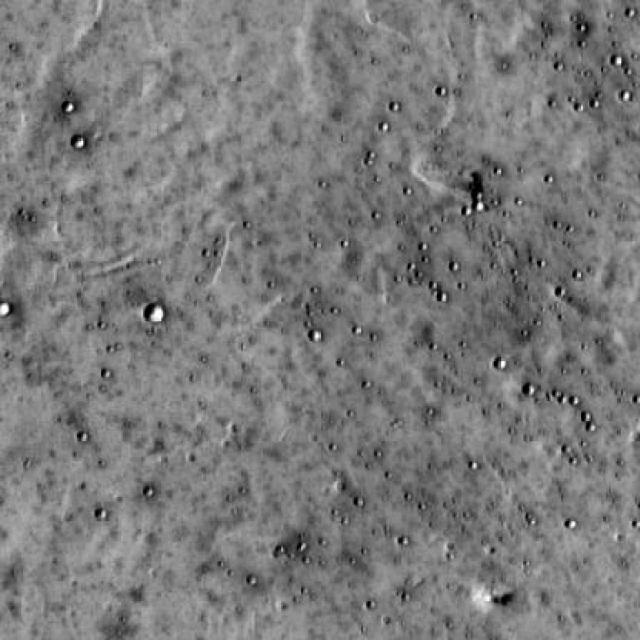crater: (145, 302, 166, 322), (0, 302, 9, 316)
